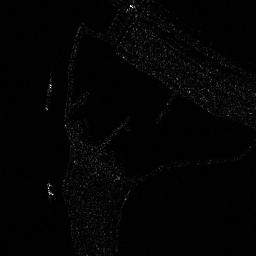ship: (44, 81, 52, 111)
